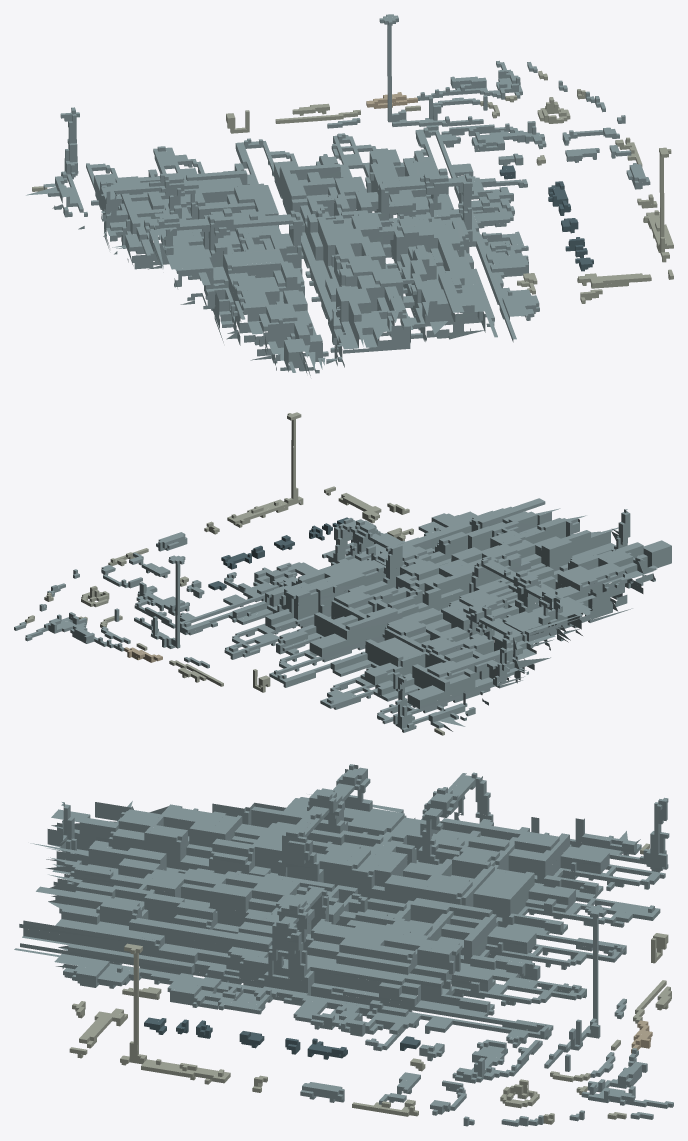
3 renders of one model, top to bottom at view 1: azimuth 30°, elevation 25°; view 2: azimuth 150°, elevation 25°; view 3: azimuth 270°, elevation 25°, orthographic. The views are drawn at different scales.
Visible parts, largest first — view 1: measured-industrial; view 2: measured-industrial; view 3: measured-industrial.
Part boxes in pixels (<box>): measured-industrial: <box>26,14,673,375</box>; measured-industrial: <box>14,412,671,735</box>; measured-industrial: <box>14,764,673,1126</box>.
Bounding box in the file's own units: 252 × 47.6 × 232.
